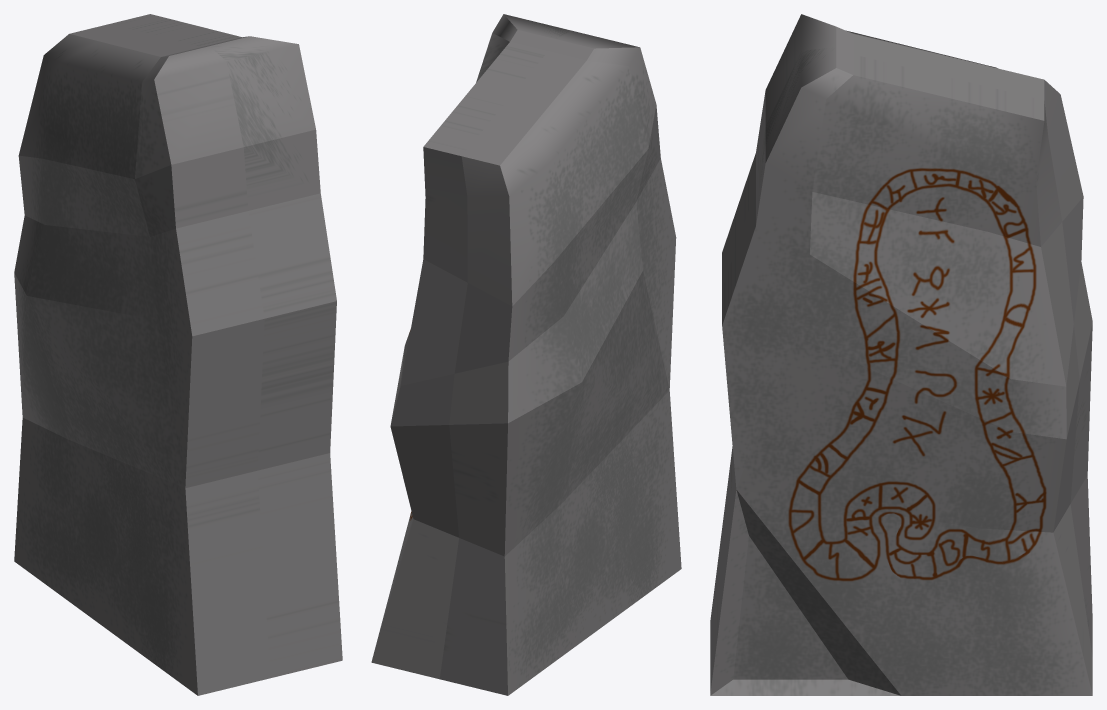
Rendered from Runestone.fbx.
3 views of the same model, side by side, from view 1: azimuth 30°, elevation 25°; view 2: azimuth 150°, elevation 25°; view 3: azimuth 270°, elevation 25° (orthographic). The views are drawn at different scales.
Visible parts, largest first — view 1: RuneStone; view 2: RuneStone; view 3: RuneStone.
Boxes of the visible parts, box(x1,y1,x2,y2) form: RuneStone: box(14, 14, 342, 695); RuneStone: box(371, 14, 681, 695); RuneStone: box(710, 14, 1092, 695).
Bounding box in the file's own units: 239 × 736 × 417.
1 material, 1 textured.
